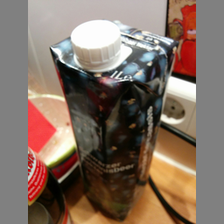juice: (48, 18, 178, 220)
